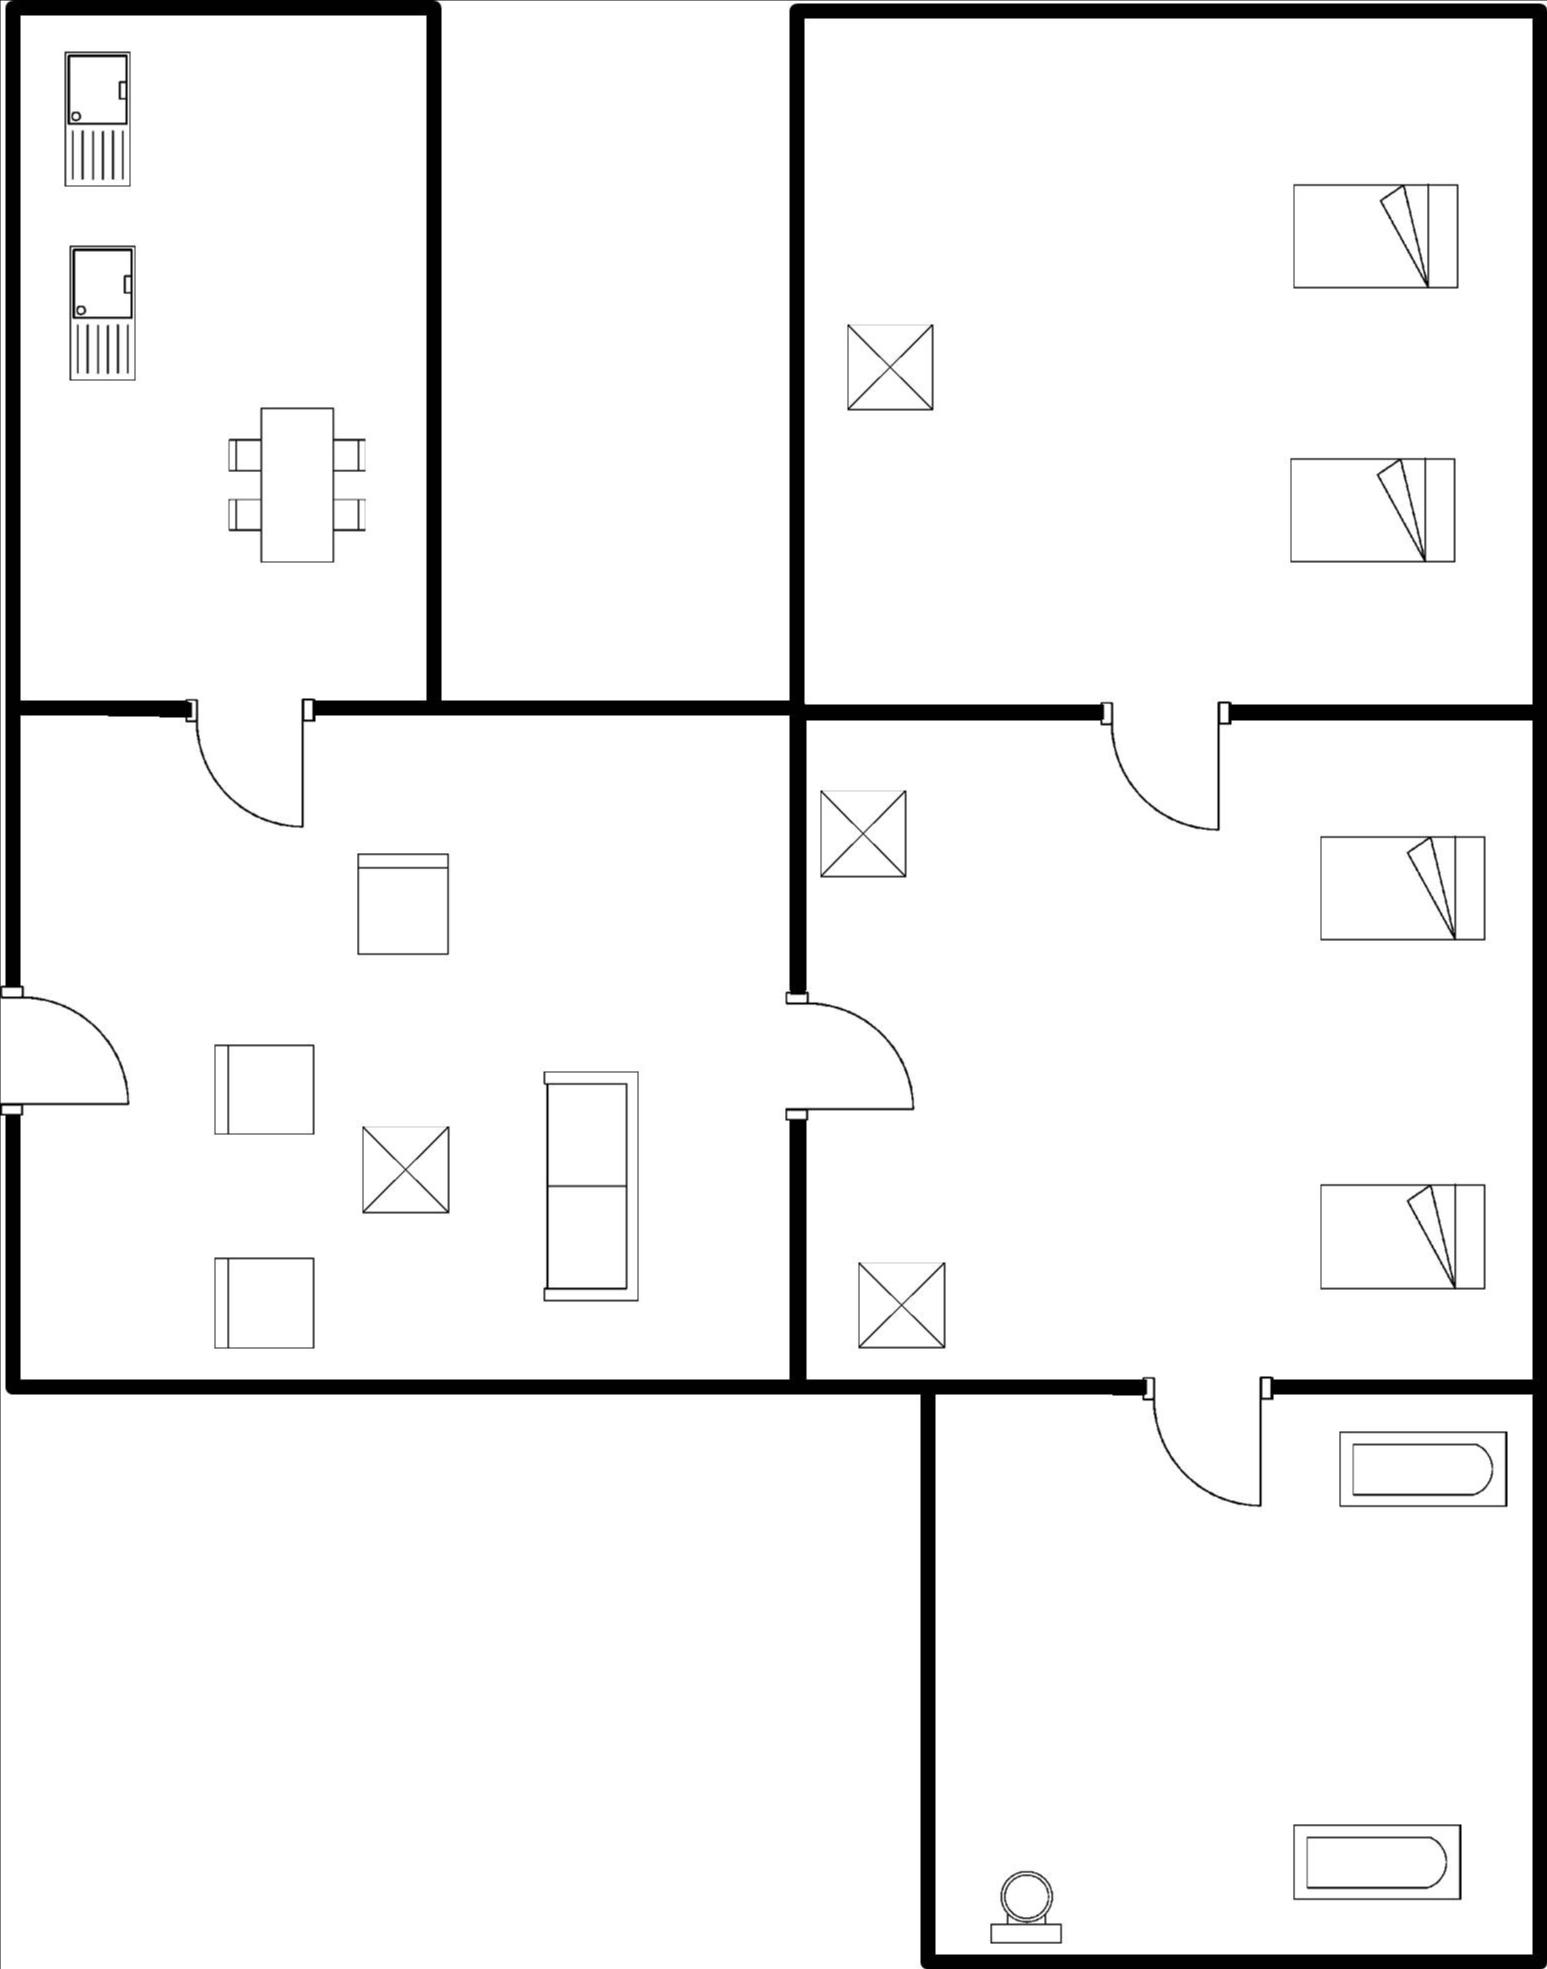bed: (1263, 444, 1469, 579), (1301, 1170, 1502, 1304), (1279, 166, 1477, 300), (1307, 826, 1497, 951)
dining_table: (222, 388, 384, 582)
sink: (59, 232, 153, 388), (51, 38, 142, 197)
sofa: (531, 1053, 650, 1314)
toilet: (978, 1854, 1076, 1948)
tub: (1323, 1416, 1521, 1520), (1282, 1808, 1477, 1911)
